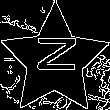N_W: (30, 40, 79, 81)
